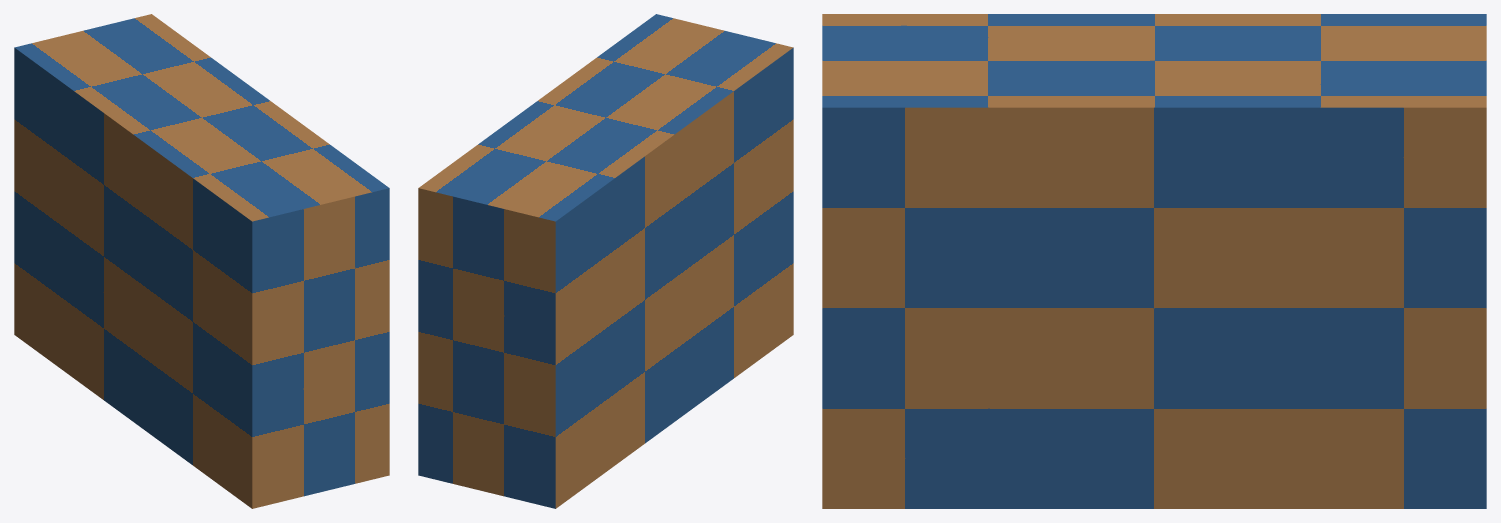
The model's file is textured_prop.glb.
The picture shows the model from 3 angles, left to right: view 1: azimuth 30°, elevation 25°; view 2: azimuth 150°, elevation 25°; view 3: azimuth 270°, elevation 25°; orthographic projection. The views are drawn at different scales.
Parts seen in each view (by area): view 1: Visual; view 2: Visual; view 3: Visual.
Part boxes in pixels (<box>): Visual: <box>14,14,389,508</box>; Visual: <box>418,14,793,508</box>; Visual: <box>822,14,1486,508</box>.
Bounding box in the file's own units: 2 × 4 × 6.
1 material, 1 textured.
